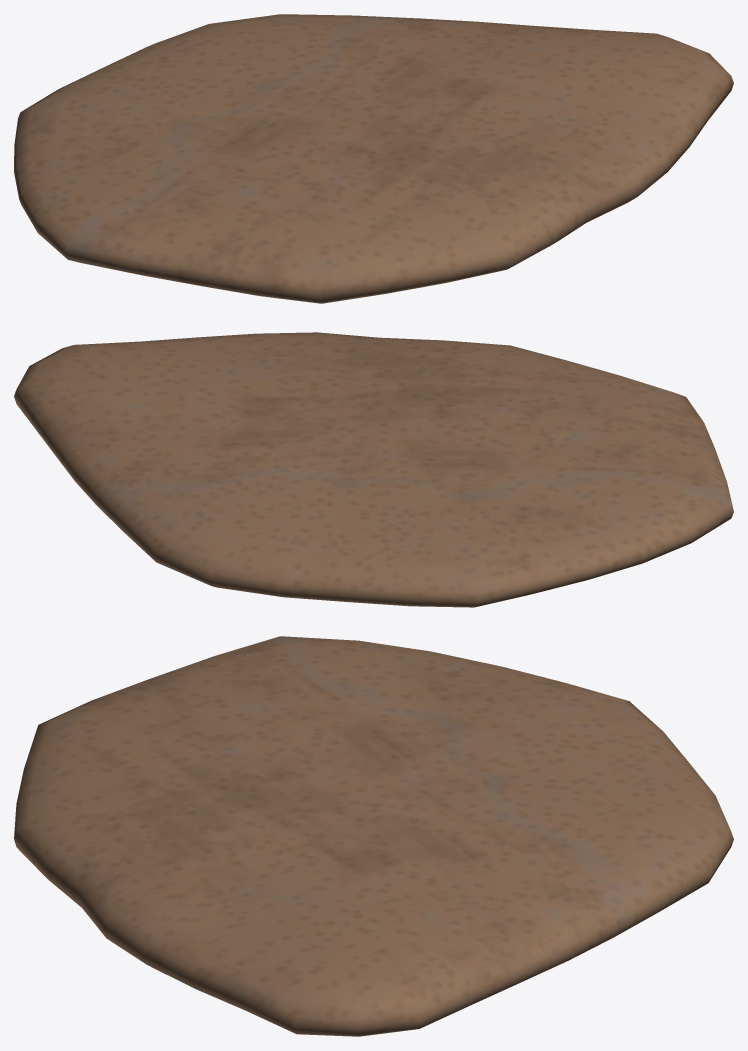
File: small_wafer_07.glb
3 renders of one model, top to bottom at view 1: azimuth 30°, elevation 25°; view 2: azimuth 150°, elevation 25°; view 3: azimuth 270°, elevation 25°, orthographic. The views are drawn at different scales.
Visible parts, largest first — view 1: small_wafer_07; view 2: small_wafer_07; view 3: small_wafer_07.
Part boxes in pixels (<box>): small_wafer_07: <box>14,14,733,303</box>; small_wafer_07: <box>14,332,733,607</box>; small_wafer_07: <box>14,636,733,1036</box>.
Size of the model in its own units: 0.0597 by 0.00547 by 0.0472.
1 material, 1 textured.
